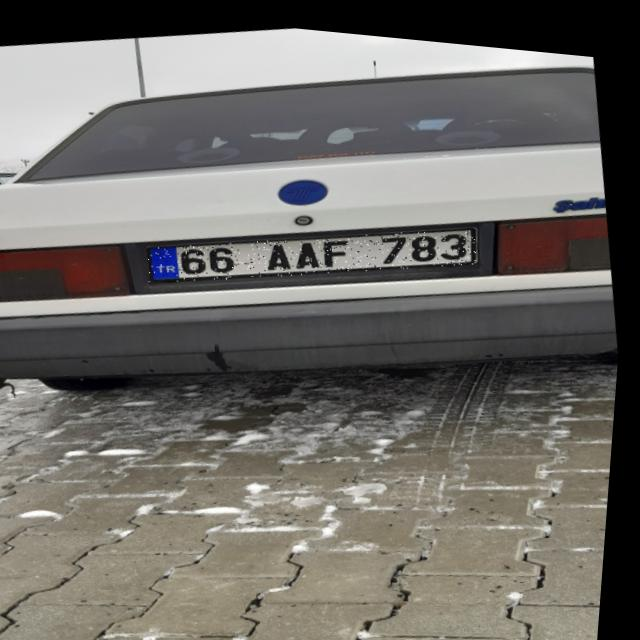license_plate: (147, 193, 483, 305)
